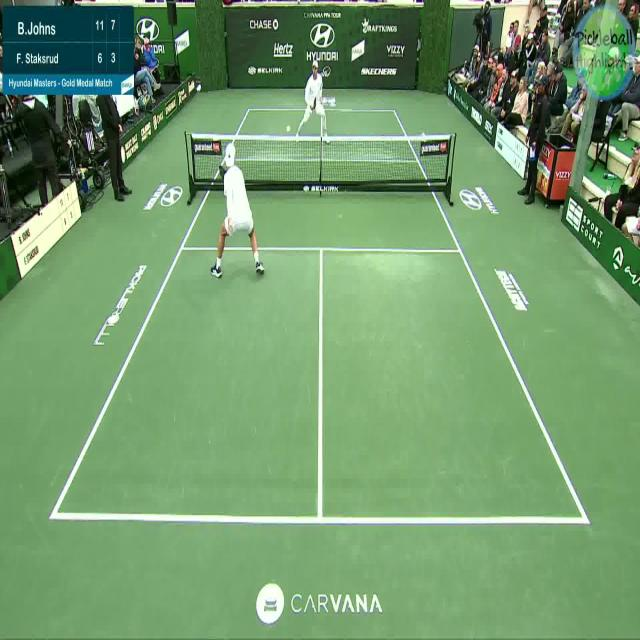ball: (283, 120, 294, 138)
